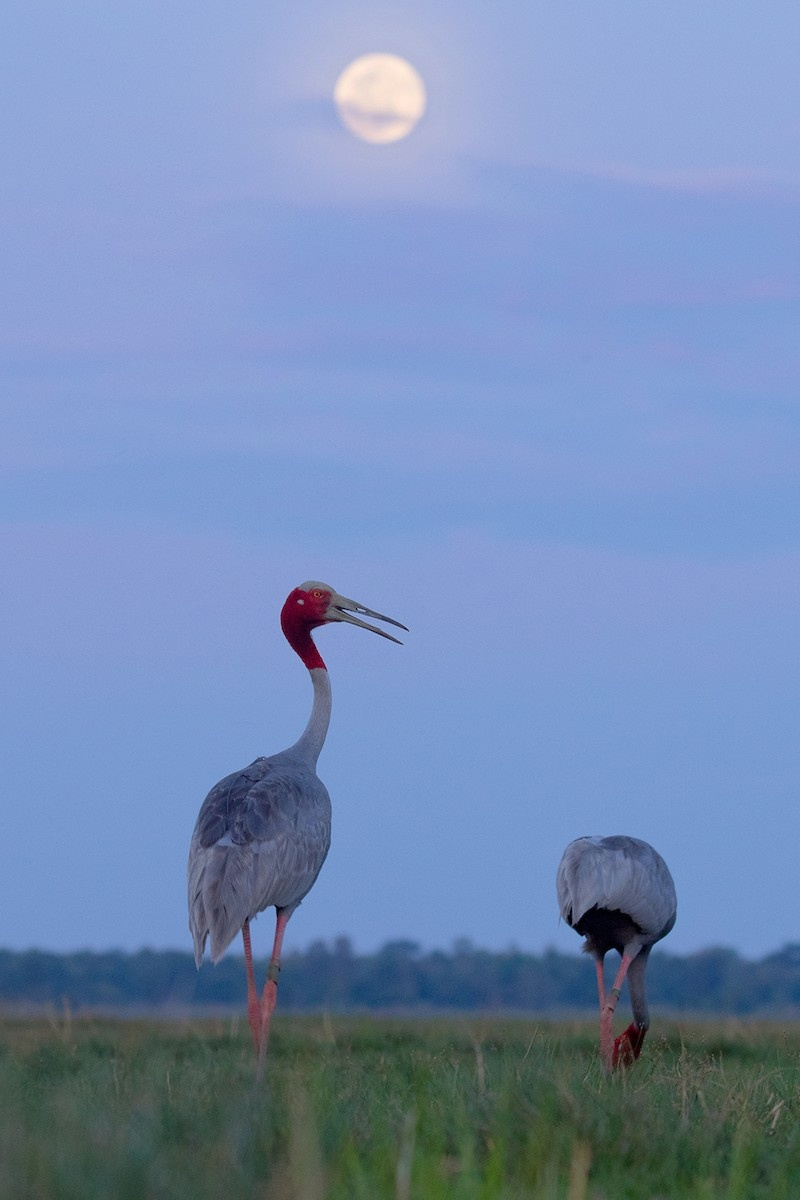crane: (197, 562, 405, 1035), (540, 791, 676, 1064)
